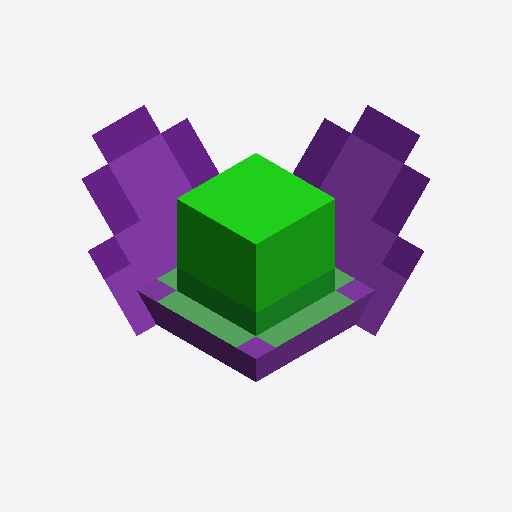
Isometric view (azimuth 45°, elevation 35.3°) of a Minecraft model made of 6 cuboids, textured from the same repository.
Visible parts, largest first — leaf (×2), bud, stem.
Boxes of the visible parts, x1=… form: leaf (×2): x1=82, y1=105, x2=429, y2=335; bud: x1=177, y1=153, x2=334, y2=335; stem: x1=137, y1=267, x2=374, y2=381.
Bounding box in the file's own units: 13.9 × 5 × 13.9.